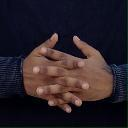hand: (32, 35, 114, 107), (21, 32, 90, 113)
